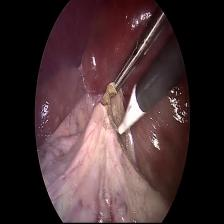Grasper: (105, 6, 169, 105)
Hook: (103, 89, 146, 145)
